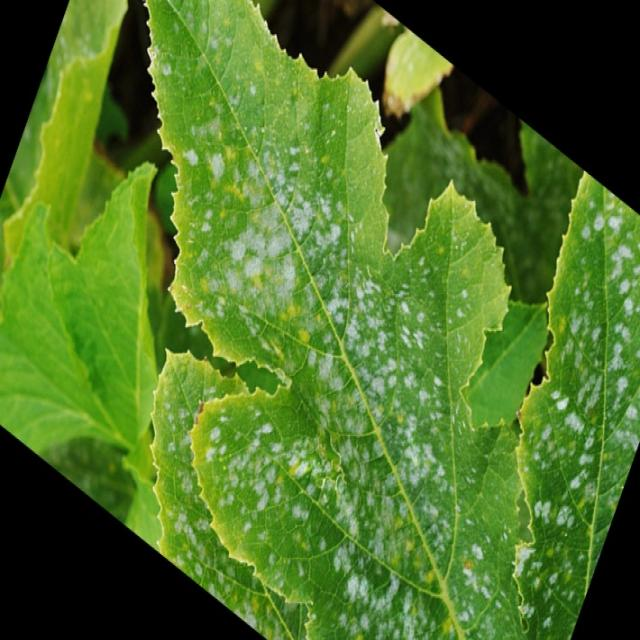Powdery Mildew: (2, 1, 636, 638)
